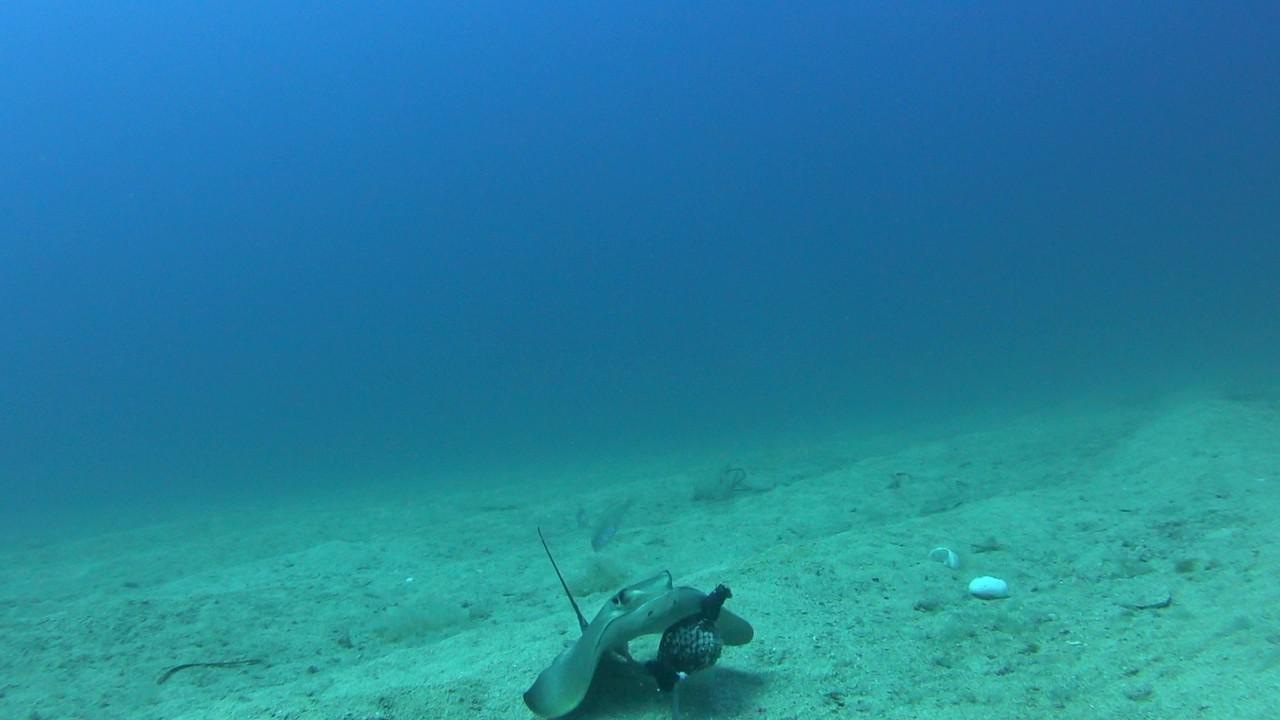myliobatis: (501, 520, 760, 716)
